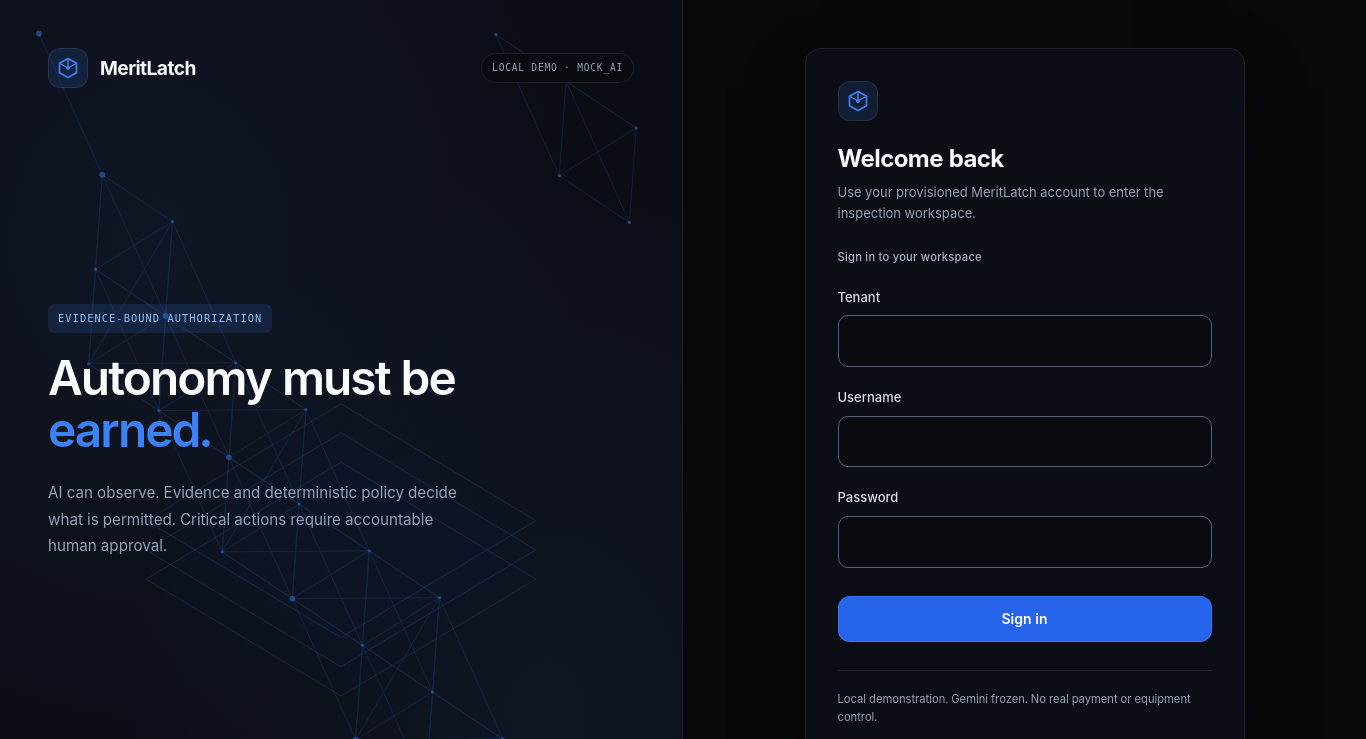
Test case: handles login failures without fake session
The width and height of the screenshot is (1366, 739).
Type "a" into the field labelled "Tenant" at (1024, 341), box [838,315,1212,367]
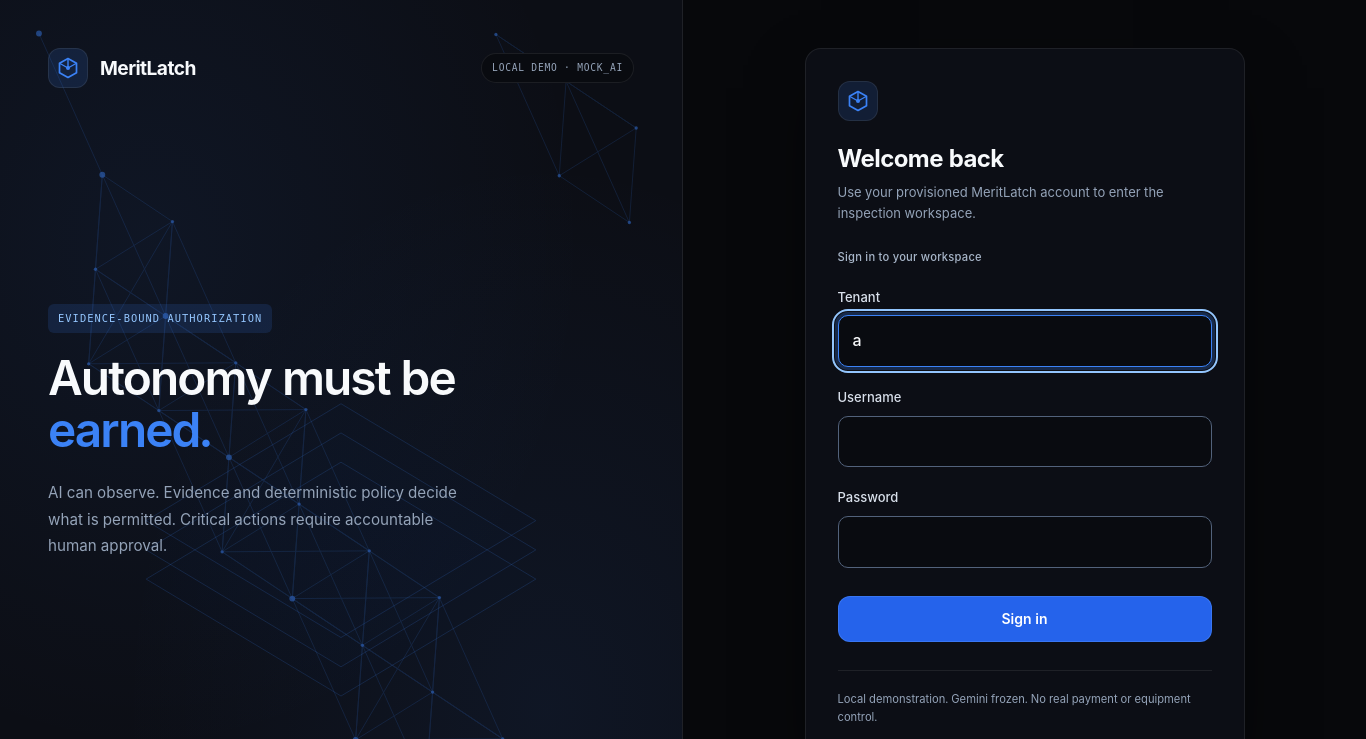
Type "fictional" into the field labelled "Username" at (1024, 442), box [838,416,1212,467]
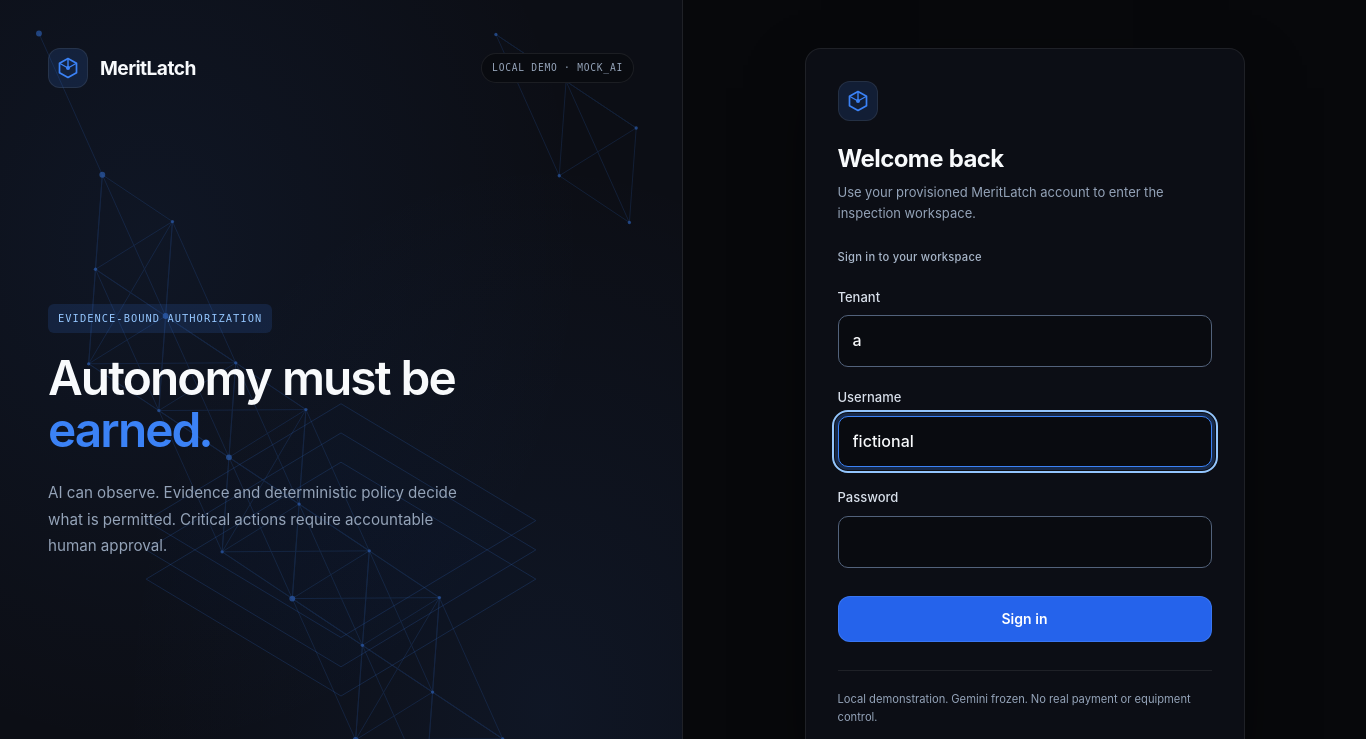
Type "fictional-password" into the password field labelled "Password" at (1024, 542), box [838,516,1212,568]
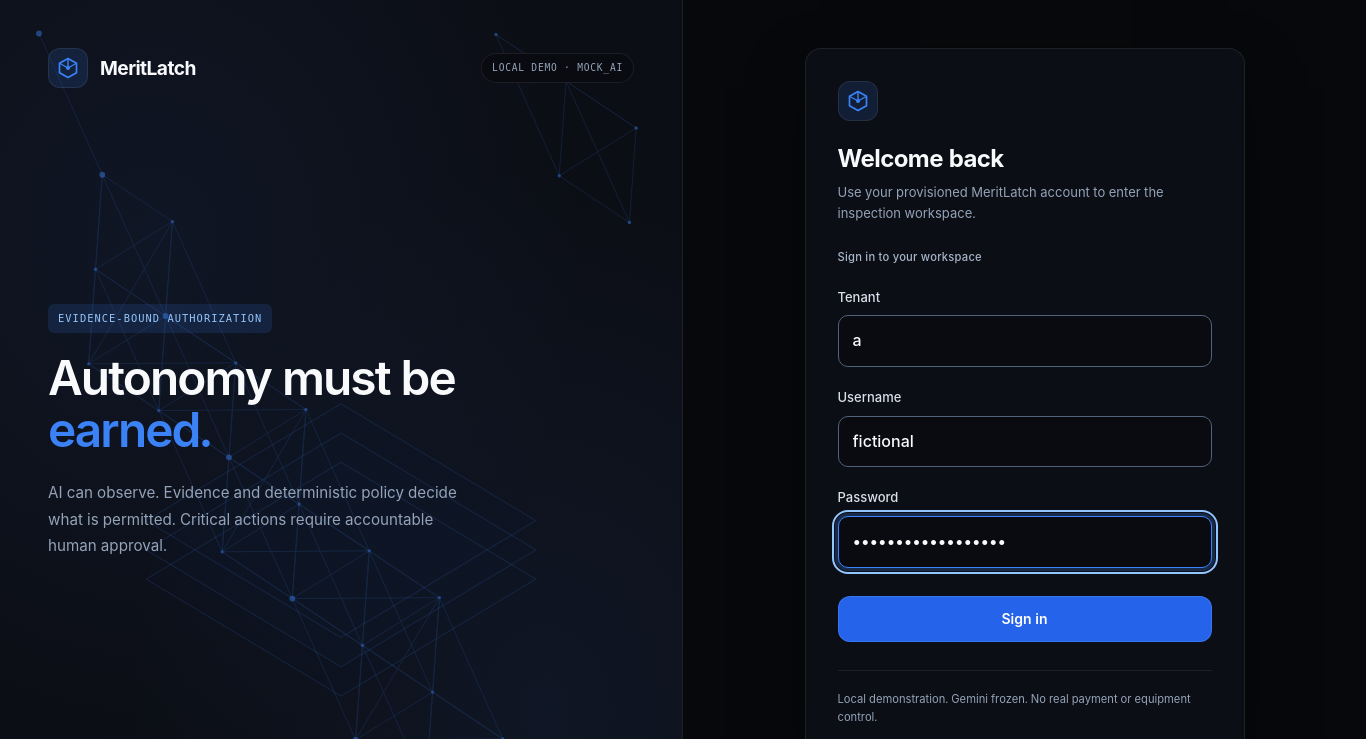
Click the button "Sign in" at (1024, 619), box [838,596,1212,642]
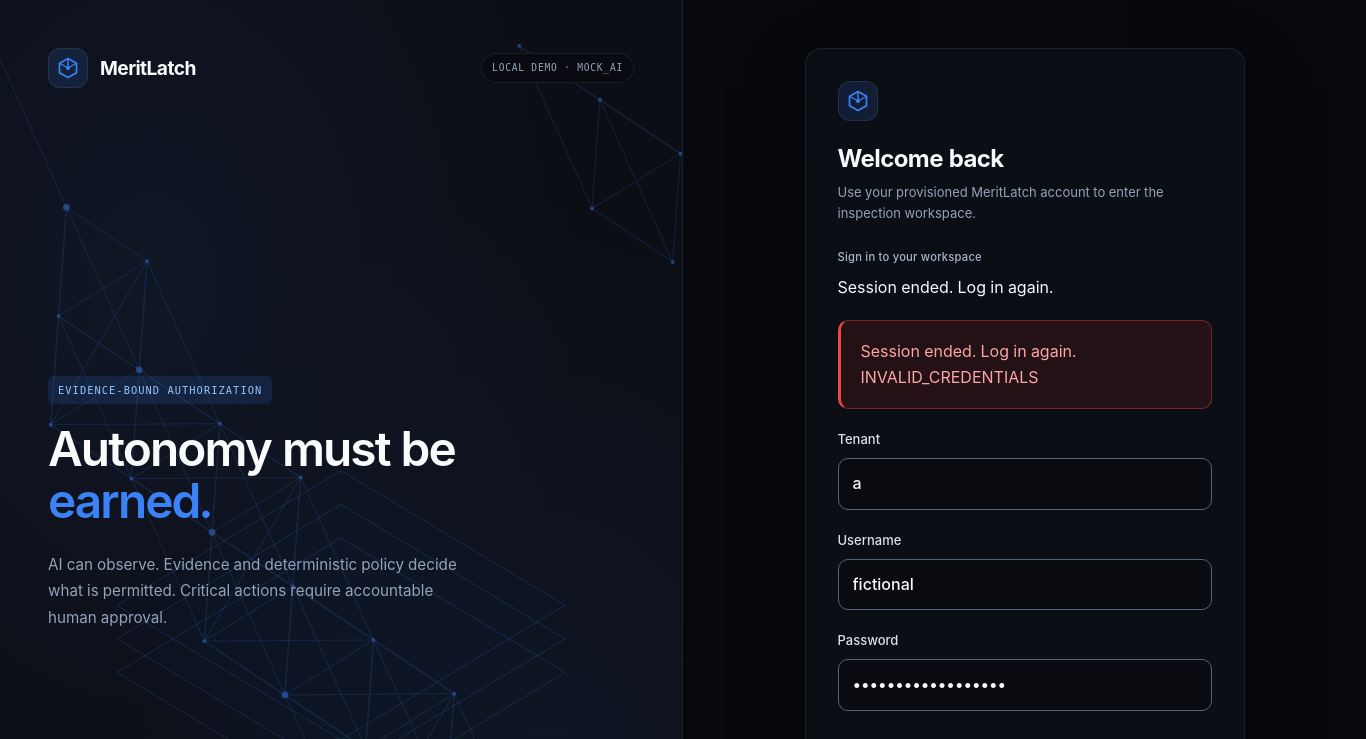
Expected: the heading "Sign in to your workspace" is shown, [838,250,982,264]
Now the message "Session ended. Log in again. INVALID_CREDENTIALS" is shown, box [838,320,1212,409]
